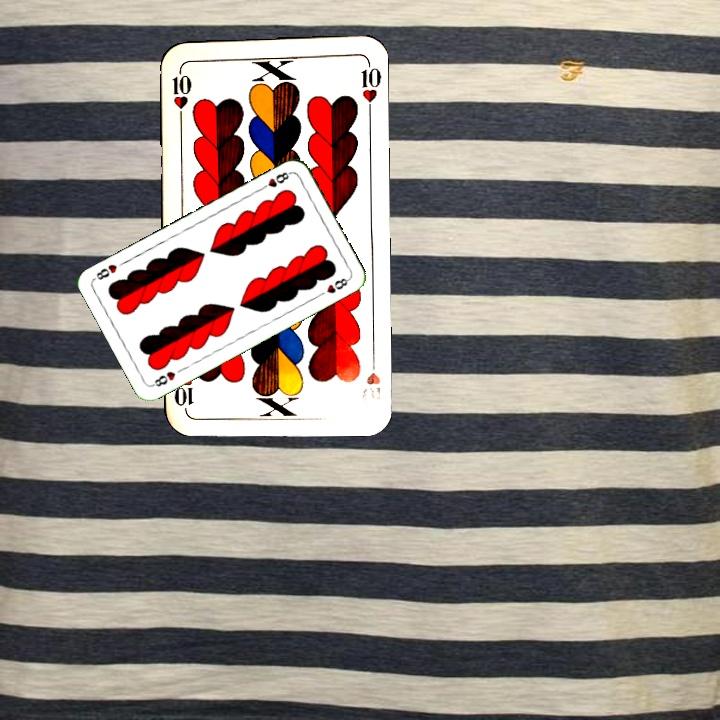H10: (168, 63, 194, 122), (357, 350, 383, 404)
H8: (256, 168, 294, 193), (148, 367, 178, 389)
